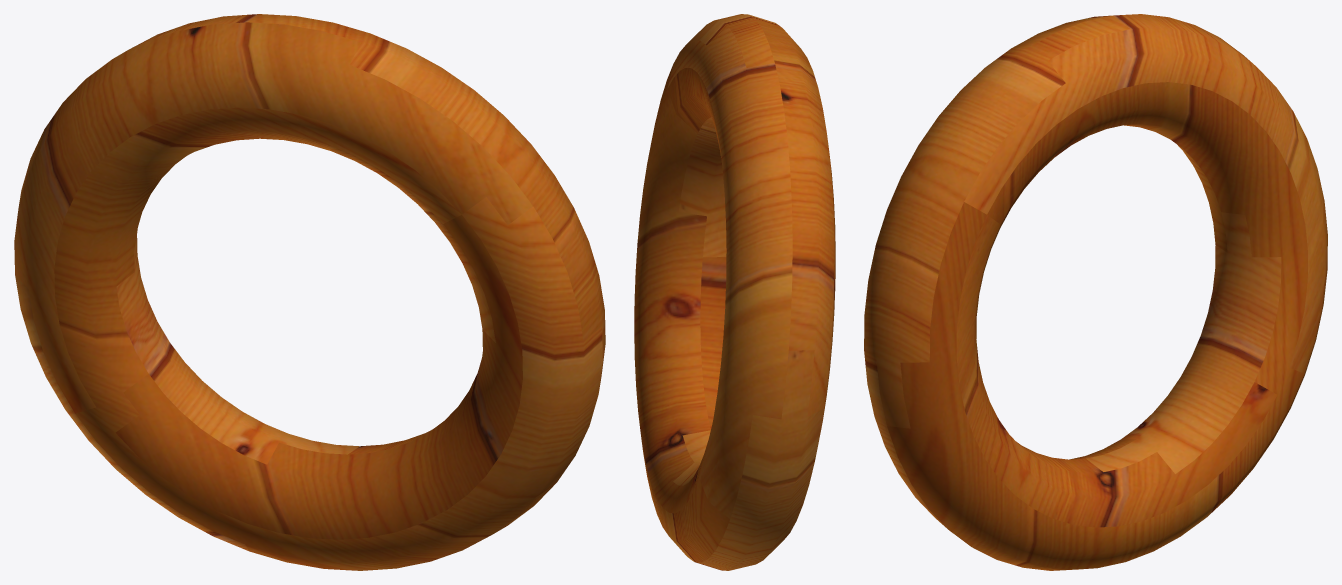
File: woodinnertube.obj
3 views of the same model, side by side, from view 1: azimuth 30°, elevation 25°; view 2: azimuth 150°, elevation 25°; view 3: azimuth 270°, elevation 25° (orthographic). The views are drawn at different scales.
Visible parts, largest first — view 1: Torus; view 2: Torus; view 3: Torus.
Part boxes in pixels (left/top/right/bottom): Torus: left=14, top=14, right=605, bottom=570; Torus: left=634, top=14, right=835, bottom=570; Torus: left=864, top=14, right=1327, bottom=570.
Size of the model in its own units: 1.78 by 2.48 by 2.03.
Materials: 1 (1 with a texture image).
